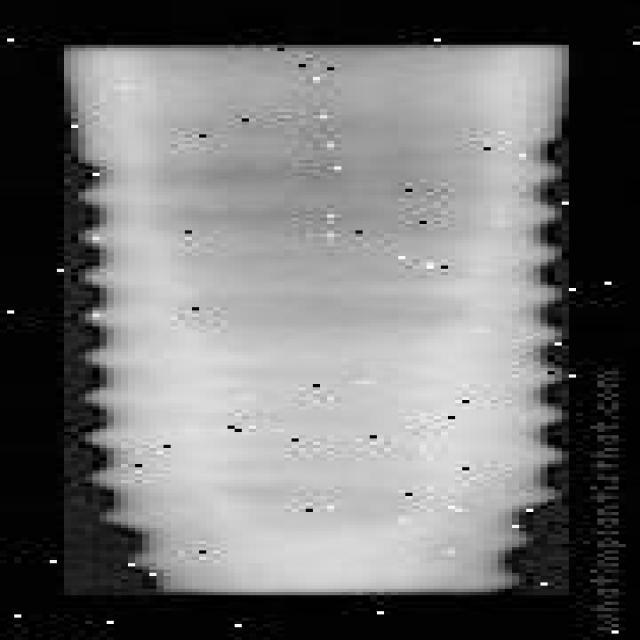Retained root: (64, 44, 577, 601)
